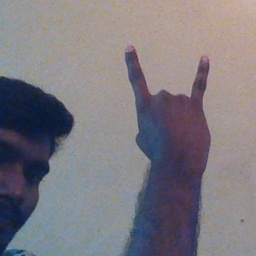V: (120, 37, 218, 162)
